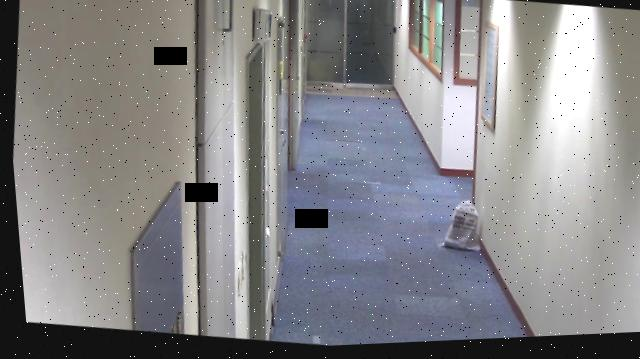trash: (429, 198, 482, 257)
